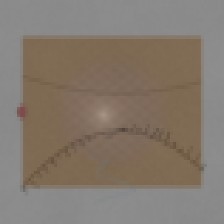foreign_body_visible: (30, 85, 76, 122)
